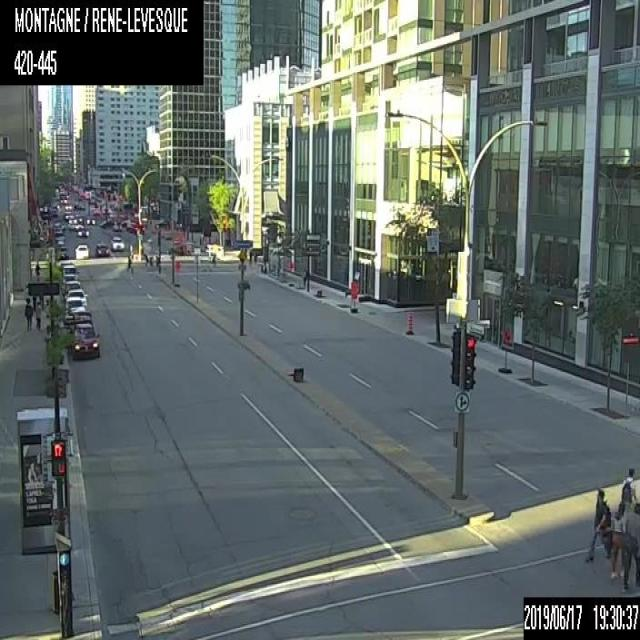construction: (498, 328, 512, 374), (287, 364, 304, 383), (404, 308, 414, 335), (349, 283, 357, 313), (173, 260, 180, 285)
pedestrian: (583, 486, 610, 565), (609, 503, 630, 580), (624, 503, 639, 592), (620, 463, 636, 506), (34, 299, 43, 332), (24, 297, 32, 329), (127, 253, 133, 271), (34, 260, 39, 277)
vehicle: (70, 311, 100, 361), (64, 288, 86, 308), (62, 280, 82, 296), (110, 235, 124, 251), (62, 264, 78, 278), (75, 242, 89, 258), (95, 242, 109, 257), (55, 245, 68, 258), (54, 231, 65, 241), (76, 228, 88, 236), (64, 210, 74, 219), (86, 215, 95, 224)
